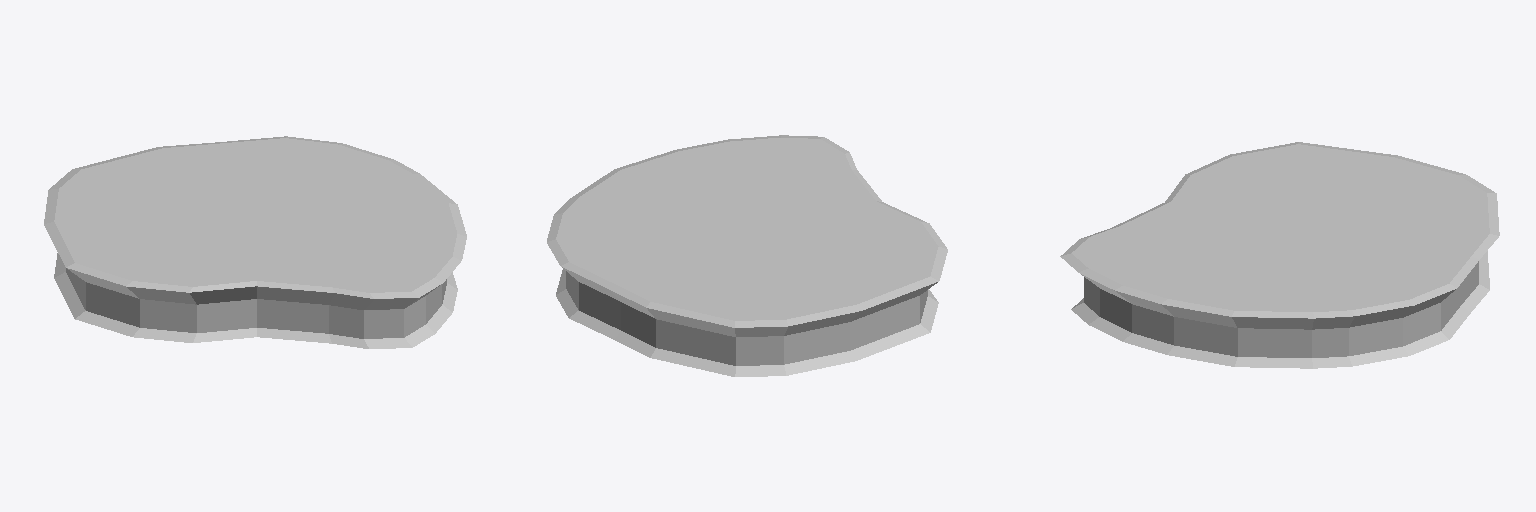
The model's file is platform_04.obj.
3 views of the same model, side by side, from view 1: azimuth 30°, elevation 25°; view 2: azimuth 150°, elevation 25°; view 3: azimuth 270°, elevation 25° (orthographic).
Parts seen in each view (by area): view 1: platform_04_Cube.010; view 2: platform_04_Cube.010; view 3: platform_04_Cube.010.
Boxes of the visible parts, box(x1,y1,x2,y2) form: platform_04_Cube.010: box(44, 136, 466, 348); platform_04_Cube.010: box(547, 135, 947, 376); platform_04_Cube.010: box(1060, 142, 1499, 368).
Size of the model in its own units: 16.56 by 2.46 by 17.41.